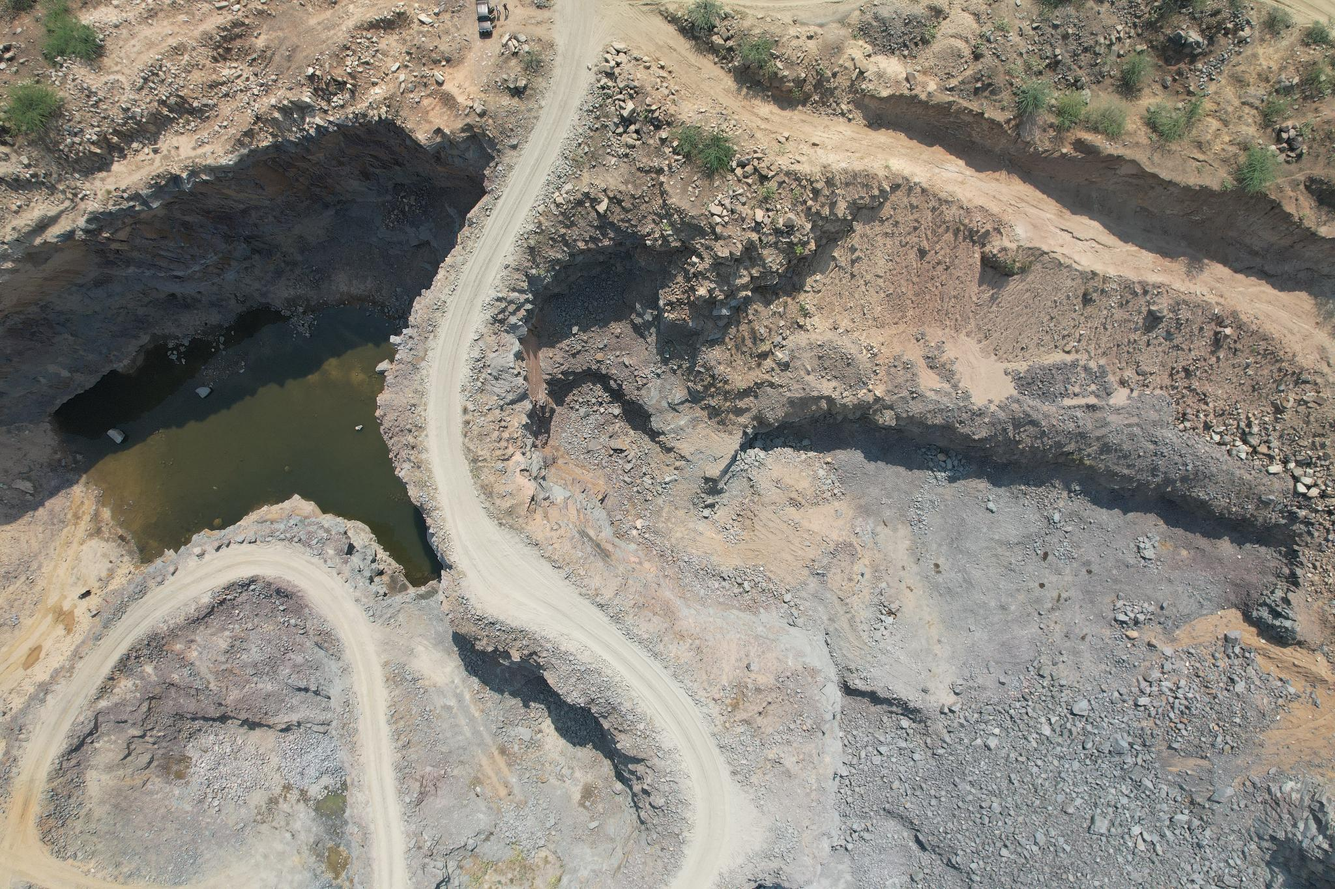benches: (425, 0, 767, 889), (686, 61, 1329, 345), (0, 541, 417, 889), (601, 3, 685, 62)
